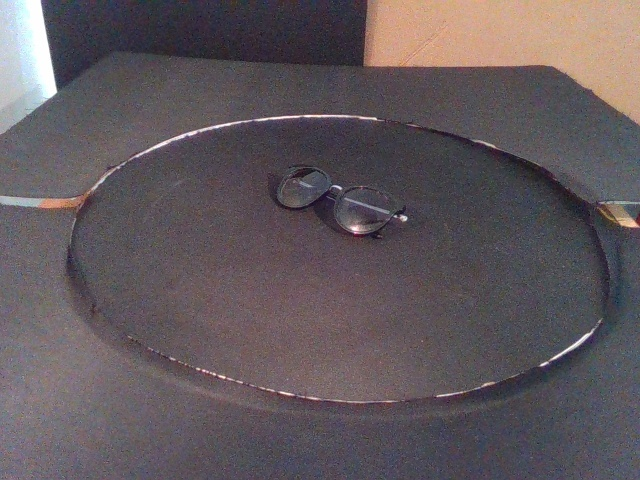glasses: (273, 163, 410, 240)
